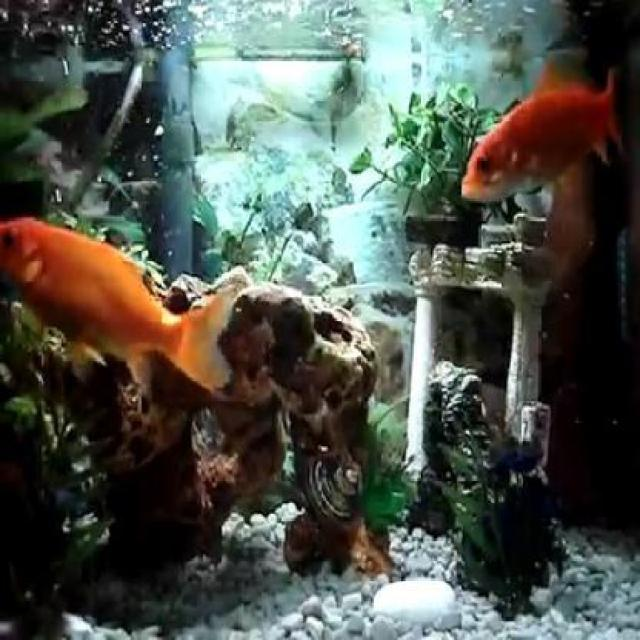GoldFish: (2, 199, 230, 393), (460, 44, 618, 204)
